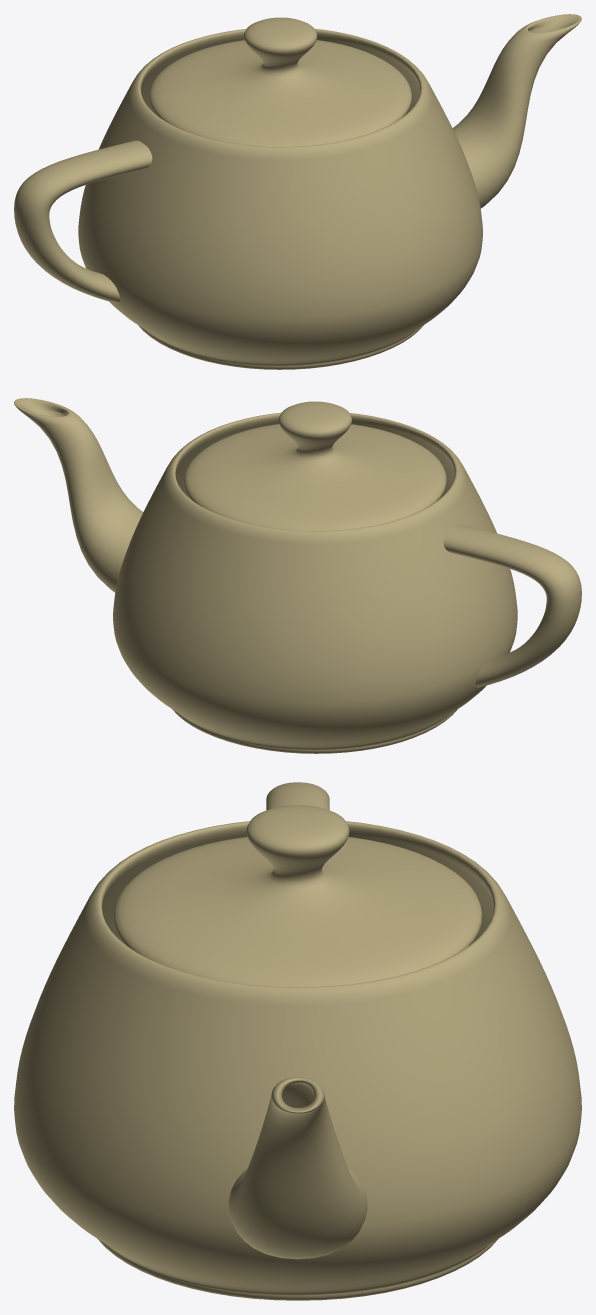
File: Teapot q.gltf
3 views of the same model, one above another, from view 1: azimuth 30°, elevation 25°; view 2: azimuth 150°, elevation 25°; view 3: azimuth 270°, elevation 25° (orthographic). The views are drawn at different scales.
Bounding box in the file's own units: 409 × 200 × 254.
